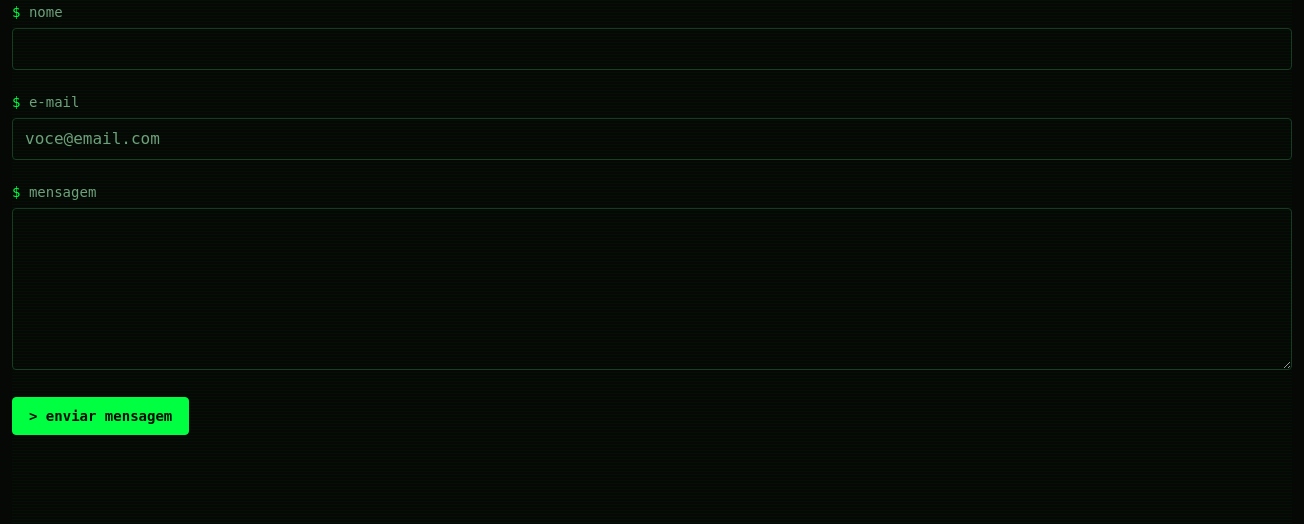
Test: ContactForm › mostra uma mensagem de erro específica para cada campo
The image size is (1304, 524).
Step 1. Click the button "> enviar mensagem" → (101, 416), box [12, 397, 189, 435]
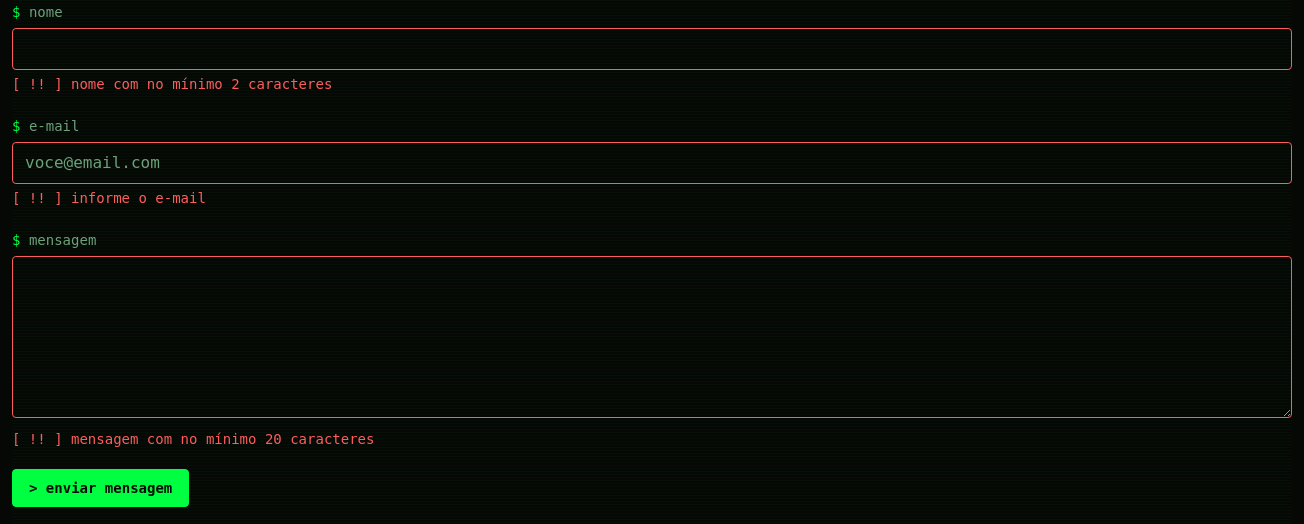
expect the text "[ !! ] nome com no mínimo 2 caracteres" is shown: met, box [12, 76, 332, 92]
expect the text "[ !! ] informe o e-mail" is shown: met, box [12, 190, 206, 206]
expect the text "[ !! ] mensagem com no mínimo 20 caracteres" is shown: met, box [12, 431, 374, 447]
